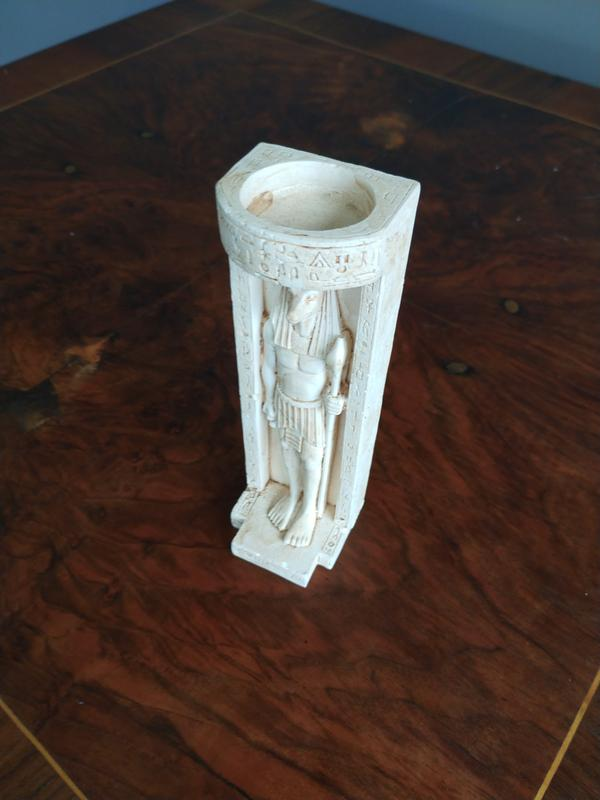heykel: (205, 133, 426, 598)
